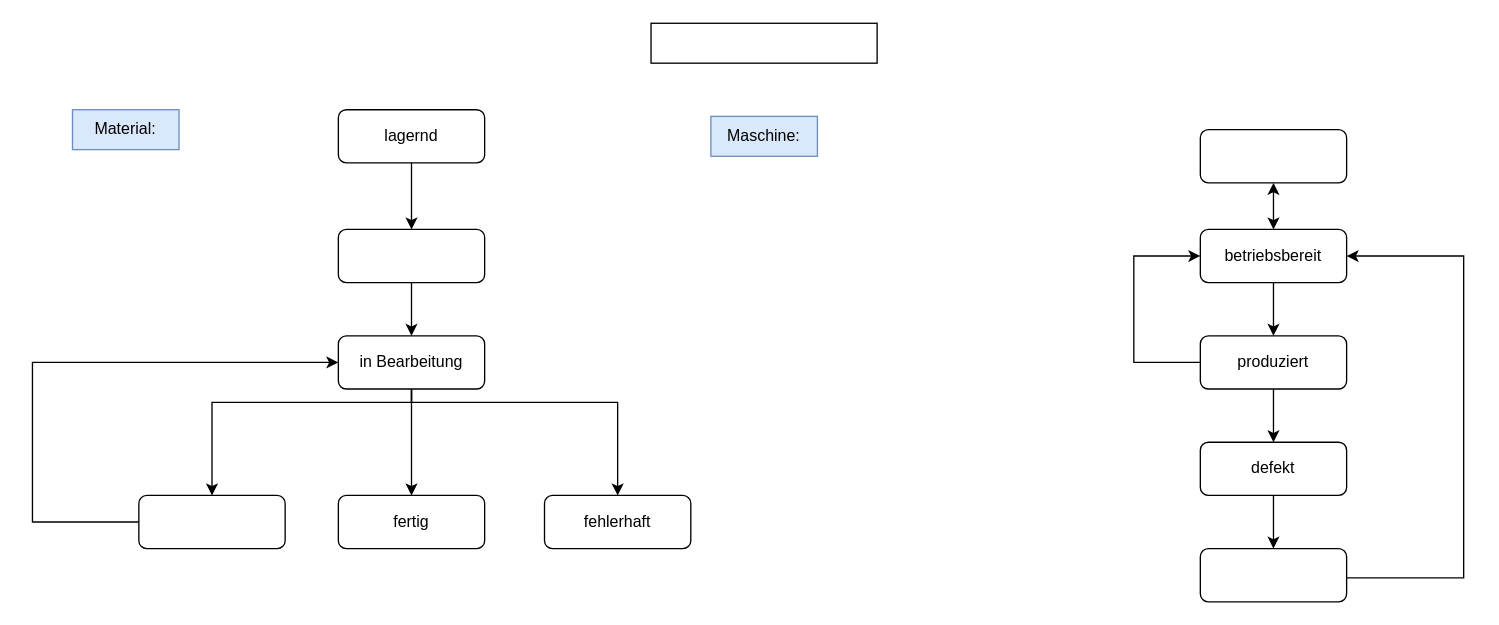
Some shapes in this 1499 by 625 pixel diagram are drawn without their labels. Here are the shapes that lost their labels. From the top down, the centre of each, then its label:
At point 763,42: "Zustandsdiagramme".
At point 1273,155: "in Wartung".
At point 411,255: "gestartet".
At point 211,521: "wartend".
At point 1273,574: "in Reparatur".
